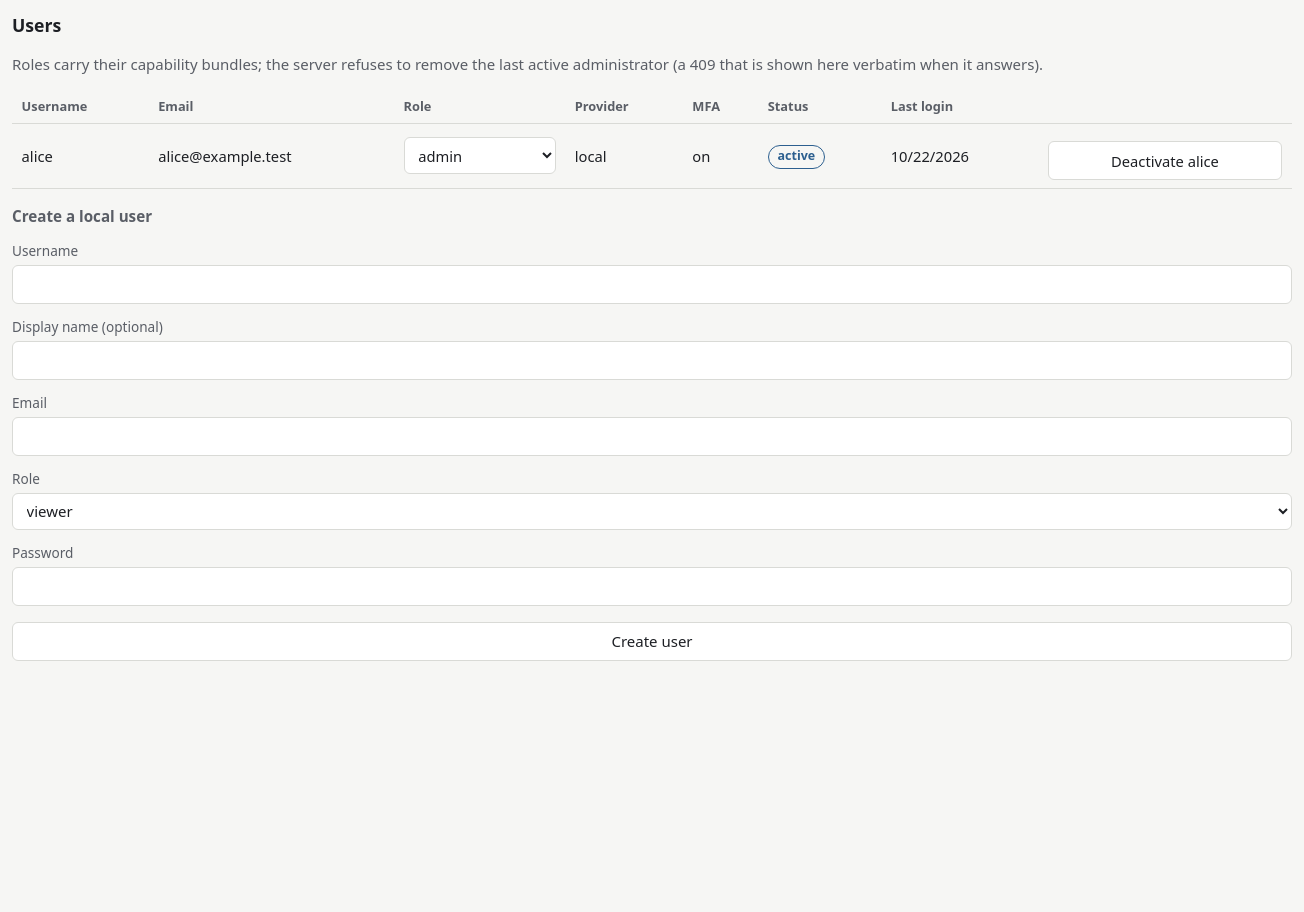
it: AdminUsers › surfaces the last-admin guard's 409 verbatim
This screenshot has width=1304, height=912.
Expected: the text "alice" is shown, [12,123,149,188]
Select "viewer" in the dropdown named "Role for alice" at coordinates (480, 156), box [404,138,556,174]
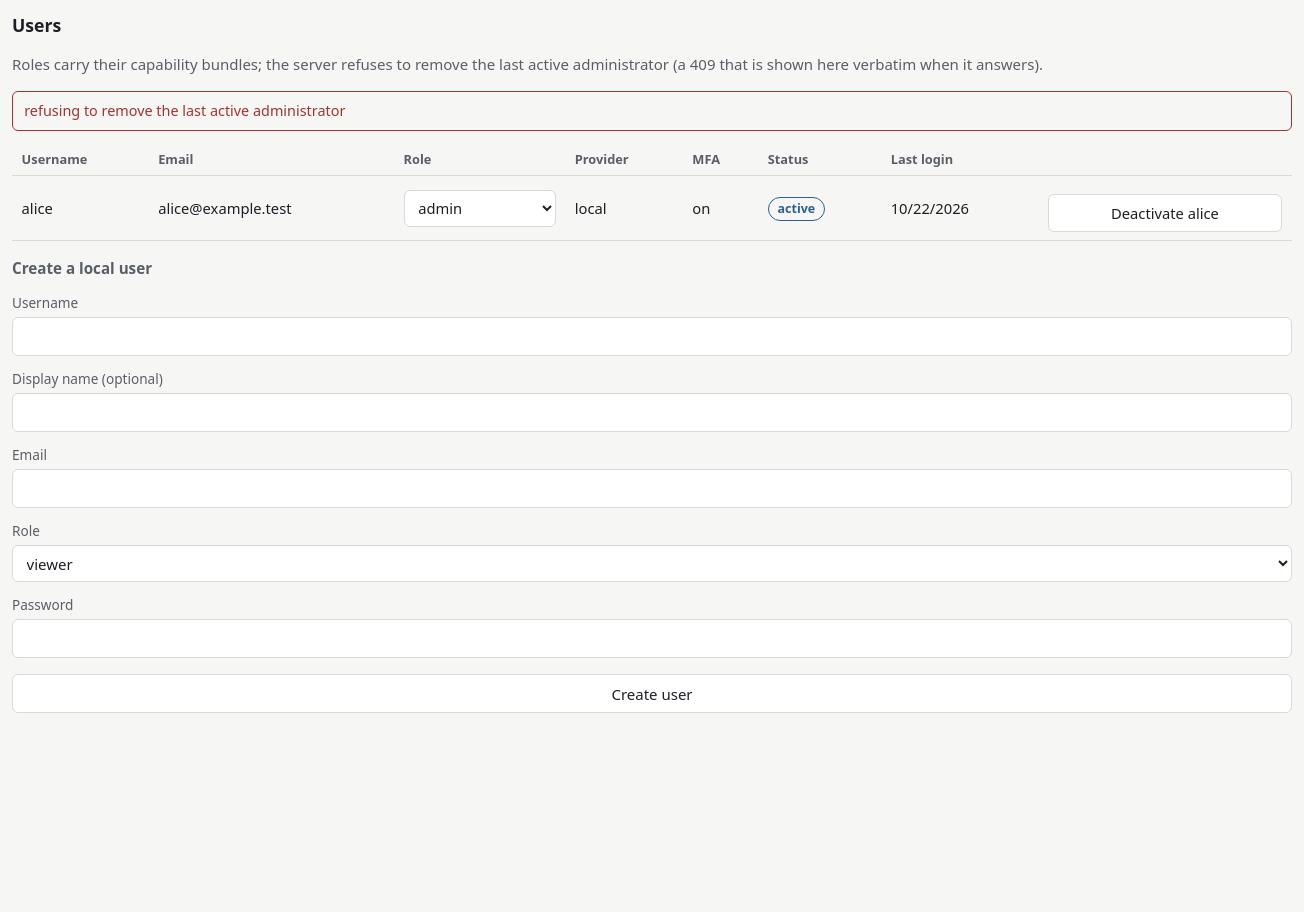
Expected: the message reads "refusing to remove the last active administrator", [24,101,345,120]
